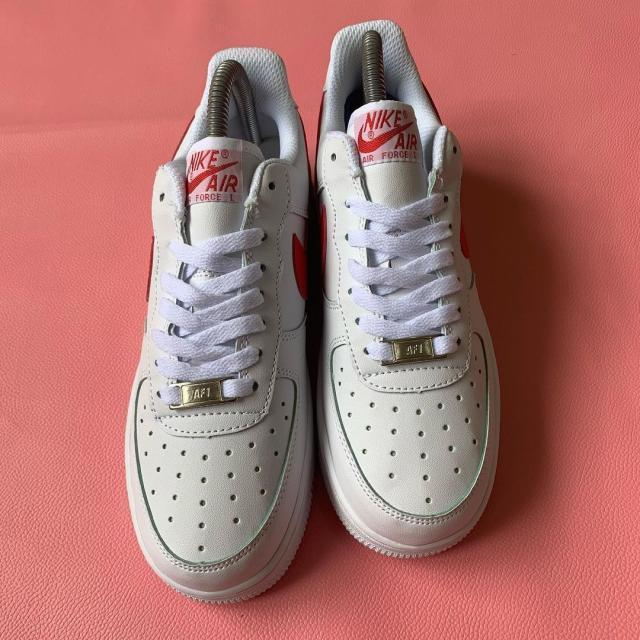nike fake air force: (124, 12, 321, 600), (314, 10, 508, 569)
